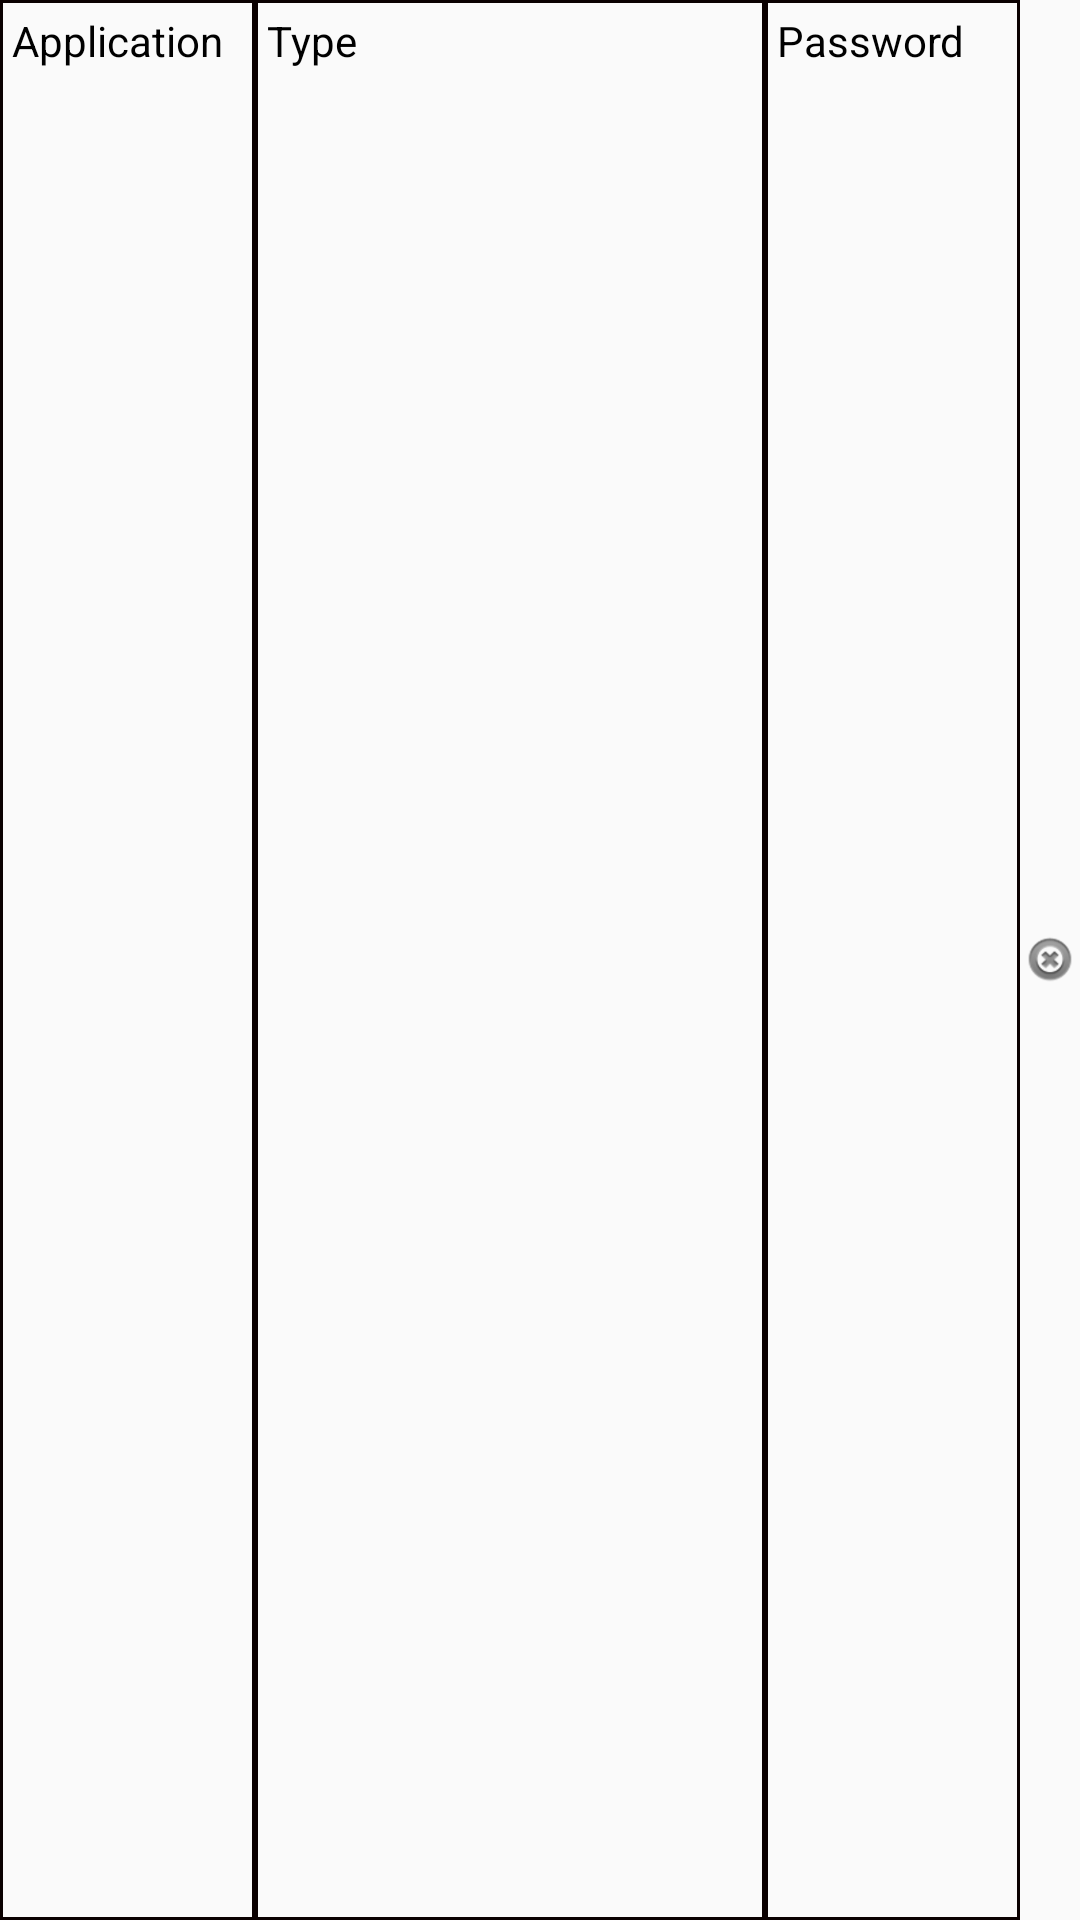

Screen size 1080w x 1920h. Icon name, then its center in pixels as point (x, y):
notification clear all: point (1050, 959)
